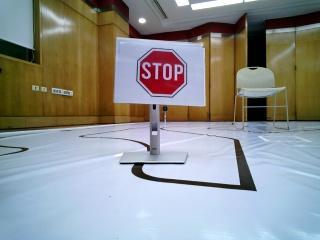stop: (120, 40, 196, 103)
